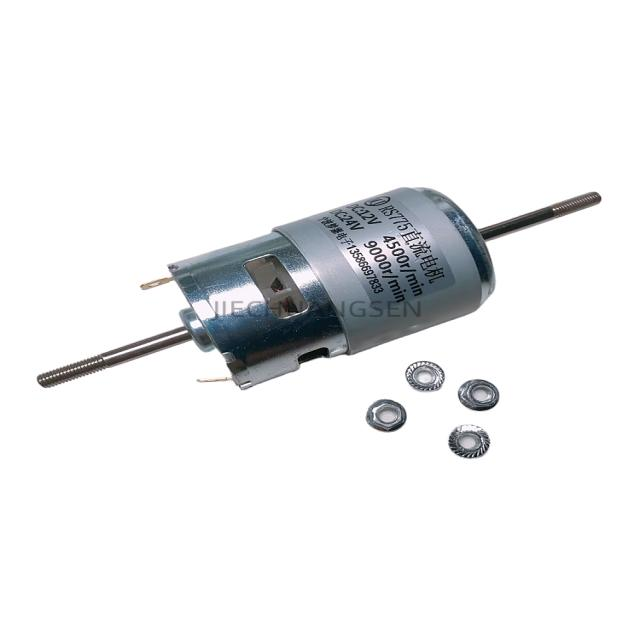motor: (37, 187, 595, 393)
